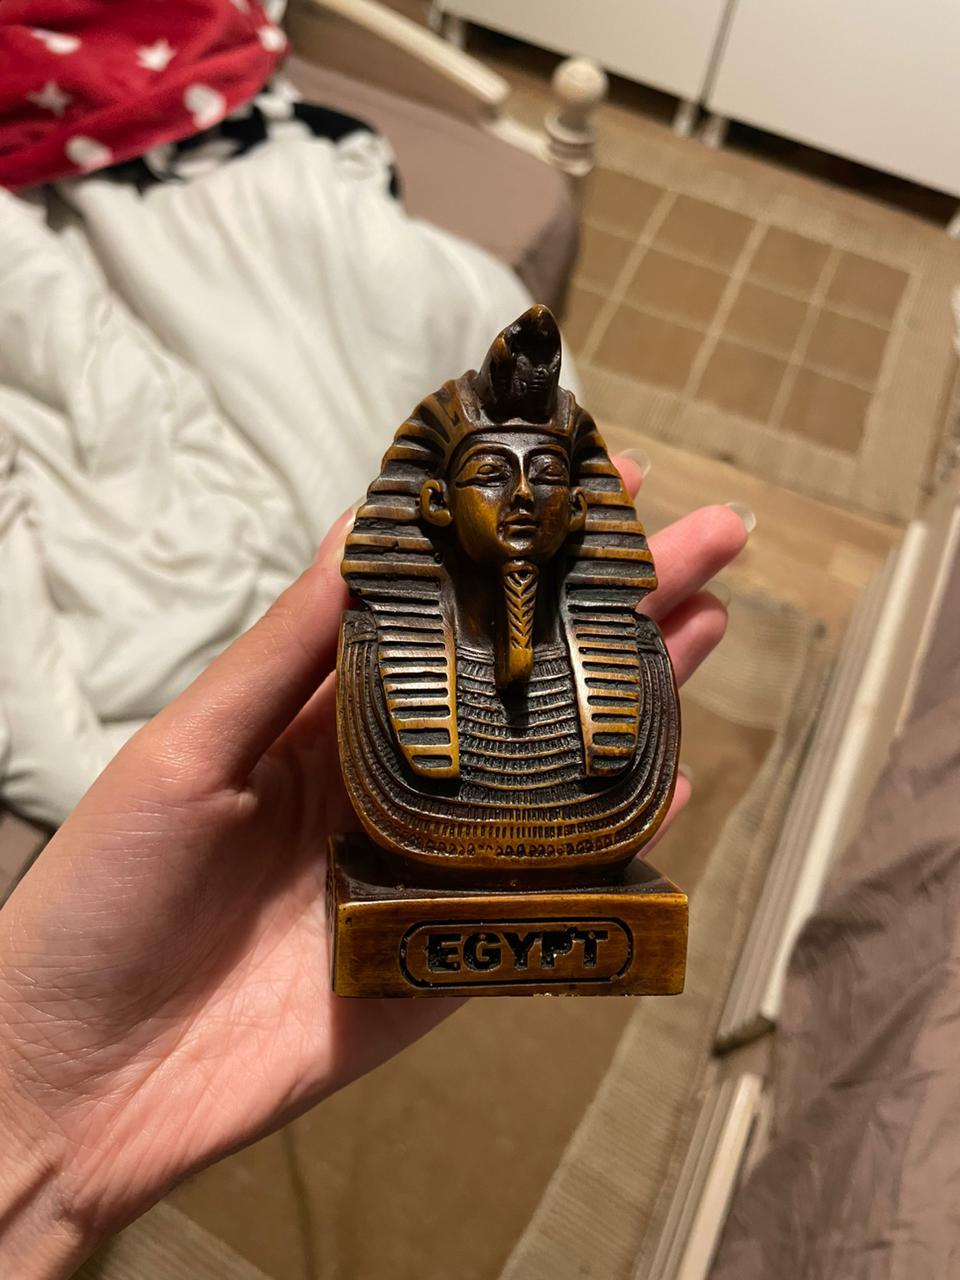Tut: (323, 299, 688, 1002)
